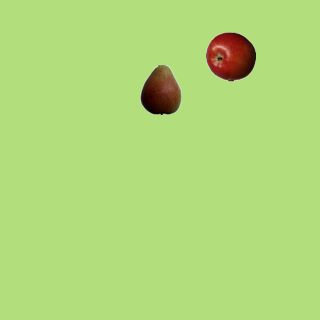Apple Braeburn: (205, 31, 255, 81)
Pear Forelle: (135, 64, 185, 114)
